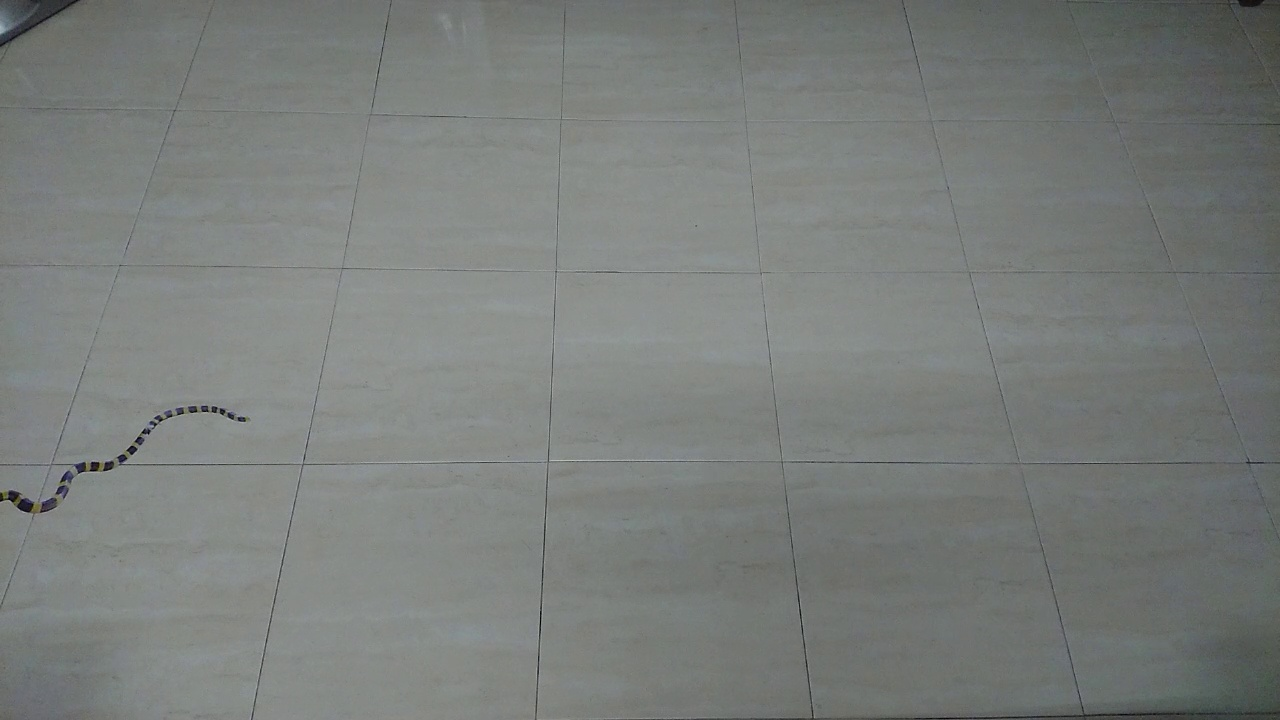snake: (1, 391, 264, 529)
